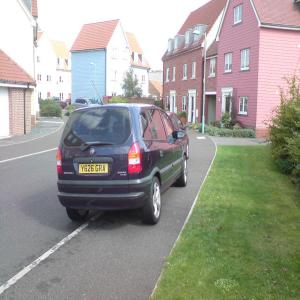Vehicle-registration-plate: (80, 163, 110, 174)
